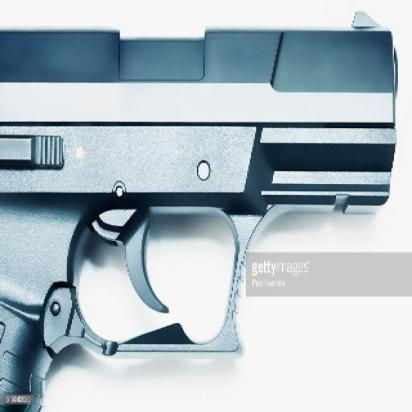Gun: (0, 9, 399, 410)
